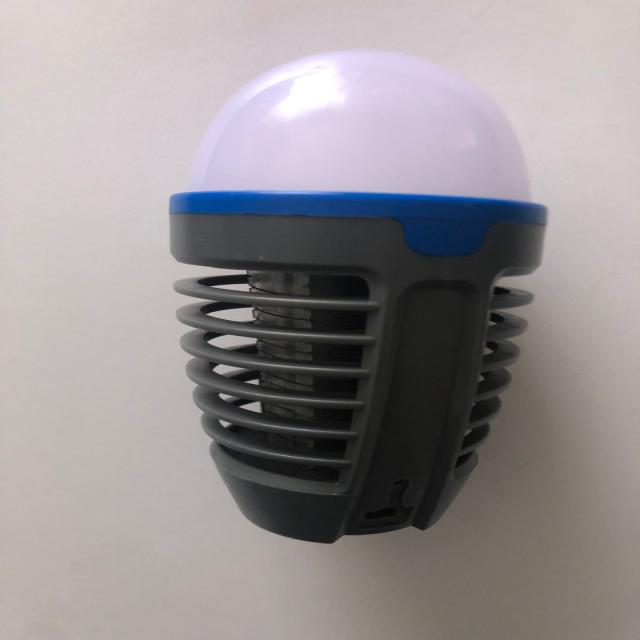Mosquito Killer: (166, 48, 550, 544)
